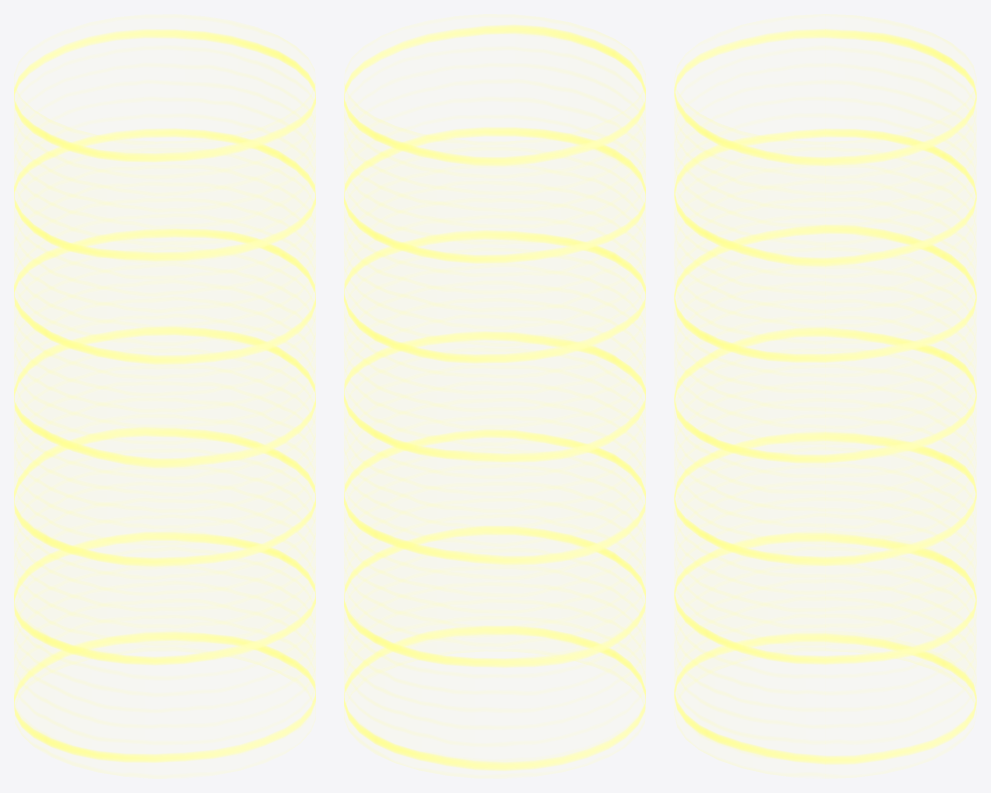
File: free_rotation_indication_pillar.glb
The picture shows the model from 3 angles, left to right: view 1: azimuth 30°, elevation 25°; view 2: azimuth 150°, elevation 25°; view 3: azimuth 270°, elevation 25°; orthographic projection.
Parts seen in each view (by area): view 1: Cylinder; view 2: Cylinder; view 3: Cylinder.
Part boxes in pixels (left/top/right/bottom): Cylinder: left=14, top=14, right=315, bottom=778; Cylinder: left=344, top=14, right=645, bottom=777; Cylinder: left=674, top=14, right=976, bottom=777.
Bounding box in the file's own units: 0.86 × 2 × 0.86.
1 material, 1 textured.
